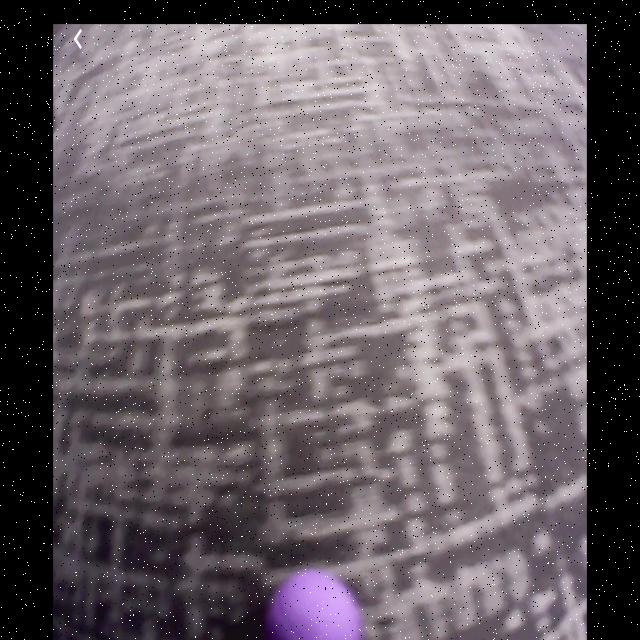ball: (267, 570, 362, 640)
